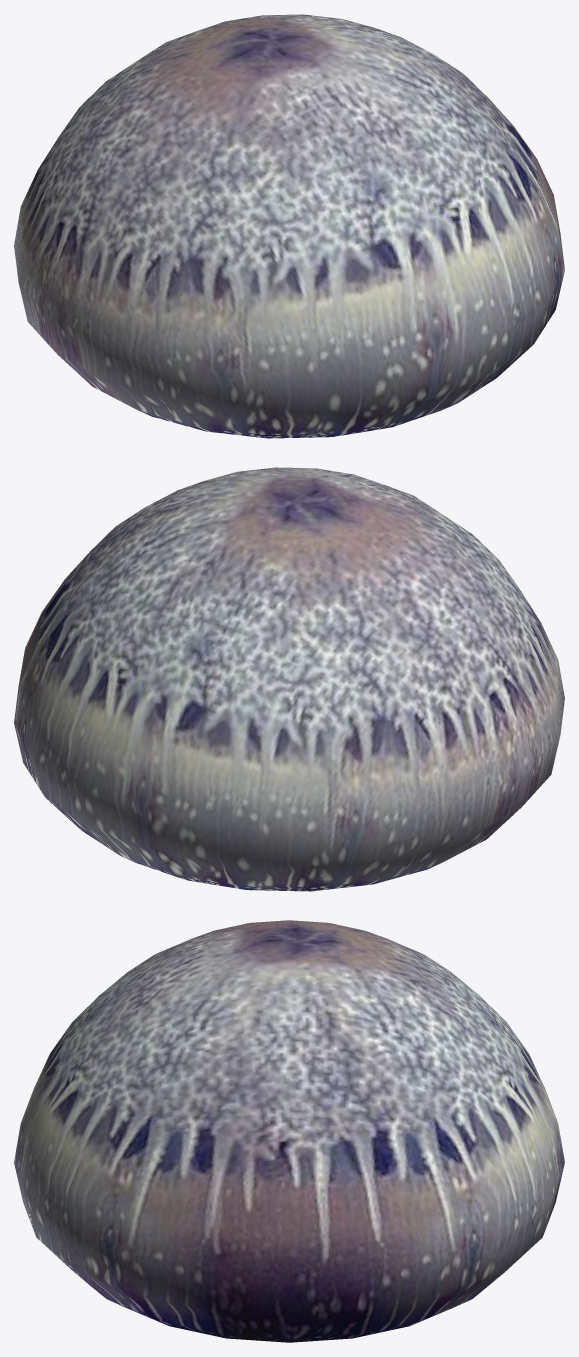
Rendered from jellyFish_hood.fbx.
The picture shows the model from 3 angles, top to bottom: view 1: azimuth 30°, elevation 25°; view 2: azimuth 150°, elevation 25°; view 3: azimuth 270°, elevation 25°; orthographic projection.
Parts seen in each view (by area): view 1: pSphere2; view 2: pSphere2; view 3: pSphere2.
Part boxes in pixels (left/top/right/bottom): pSphere2: left=14, top=14, right=564, bottom=438; pSphere2: left=14, top=467, right=564, bottom=891; pSphere2: left=14, top=920, right=564, bottom=1342.
Bounding box in the file's own units: 7.92 × 4.91 × 7.92.
